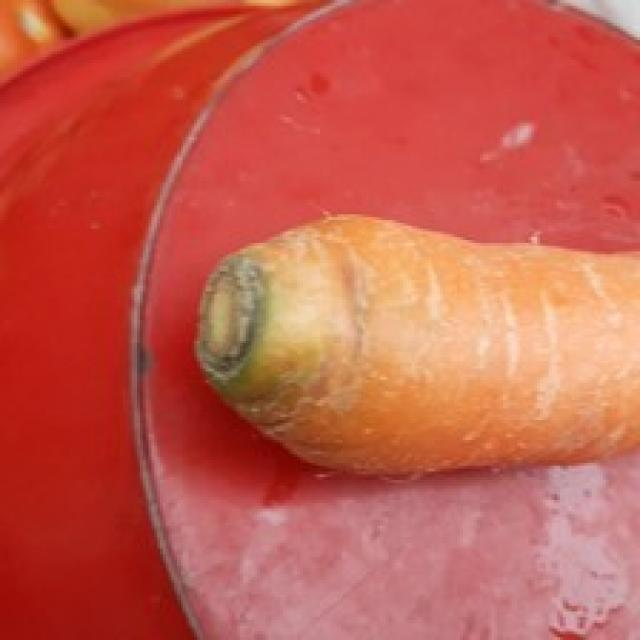carrot: (191, 213, 640, 475)
